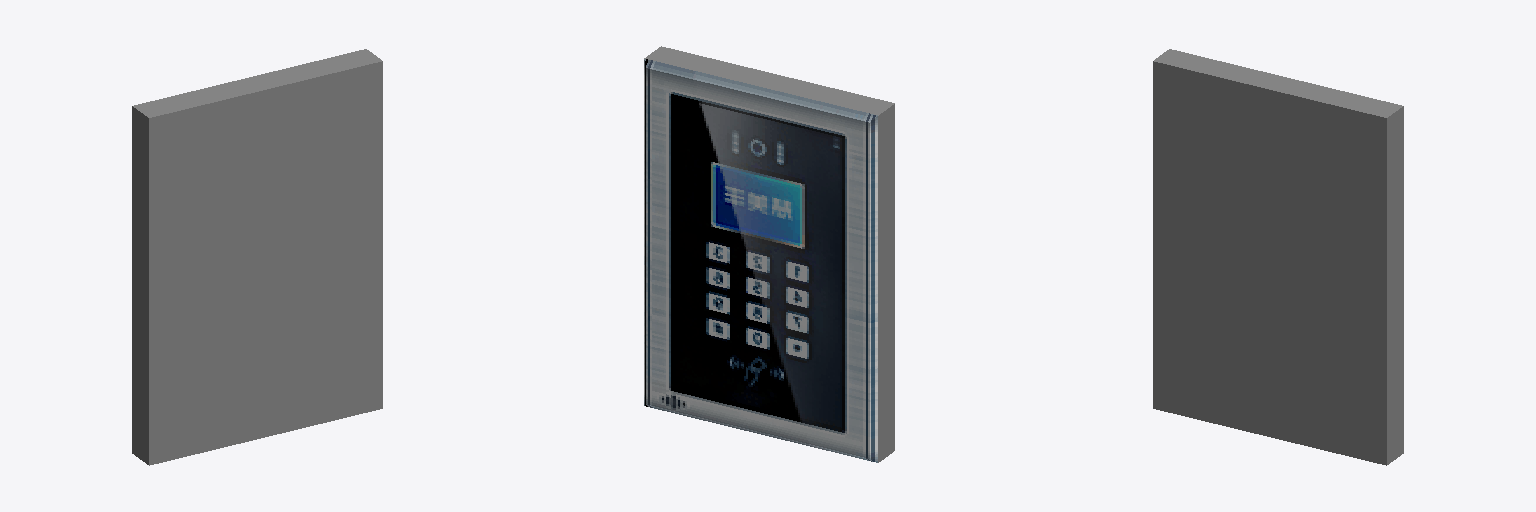
3 renders of one model, left to right at view 1: azimuth 30°, elevation 25°; view 2: azimuth 150°, elevation 25°; view 3: azimuth 330°, elevation 25°, orthographic.
Parts seen in each view (by area): view 1: RFID_1; view 2: RFID_1; view 3: RFID_1.
Boxes of the visible parts, x1=… form: RFID_1: x1=132, y1=49, x2=382, y2=465; RFID_1: x1=644, y1=46, x2=894, y2=462; RFID_1: x1=1153, y1=49, x2=1403, y2=465.
Size of the model in its own units: 1.71 by 2.42 by 0.257.
2 materials, 1 textured.